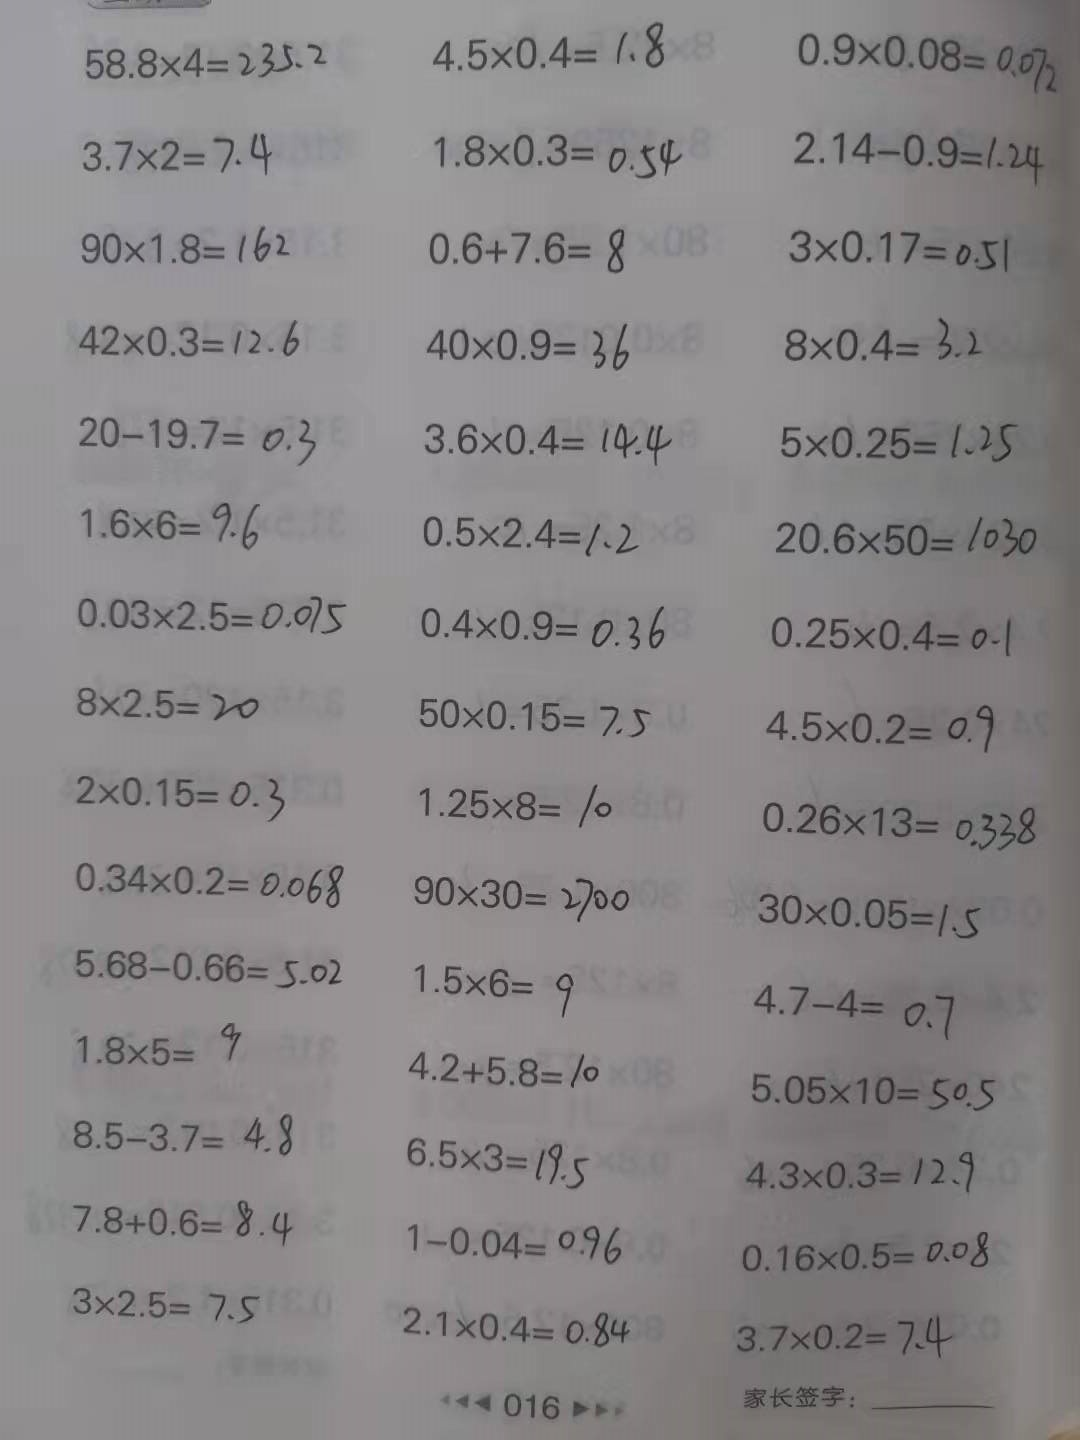equation: (790, 22, 1070, 105), (756, 787, 1046, 861), (427, 11, 680, 90), (389, 1285, 646, 1362), (64, 852, 358, 917), (422, 124, 686, 194), (68, 582, 364, 644), (751, 697, 1007, 769), (781, 124, 1049, 189), (777, 214, 1018, 286), (752, 880, 993, 951), (66, 407, 329, 472), (60, 938, 347, 997), (59, 1106, 307, 1174), (753, 602, 1026, 663), (411, 598, 682, 659), (762, 415, 1032, 476), (729, 1225, 999, 1286), (417, 501, 647, 573), (745, 968, 967, 1042), (740, 1065, 1001, 1127), (71, 313, 319, 379), (410, 686, 675, 747), (398, 869, 643, 933), (71, 27, 335, 87), (393, 945, 607, 1018), (763, 508, 1046, 564), (400, 413, 677, 469), (391, 1123, 598, 1198), (64, 768, 306, 831), (734, 1144, 982, 1205), (413, 214, 650, 277), (727, 1308, 980, 1365), (71, 492, 277, 561), (57, 1198, 307, 1253), (413, 317, 644, 376), (779, 308, 1001, 369), (59, 1009, 247, 1079), (400, 1208, 635, 1263), (74, 124, 282, 186), (59, 1277, 279, 1336), (65, 681, 282, 740), (406, 777, 623, 831), (69, 222, 299, 273), (396, 1040, 608, 1094)
